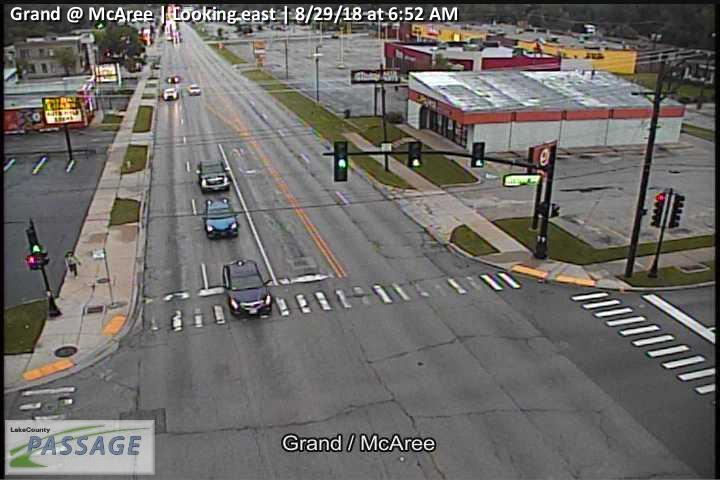SUV: (222, 259, 273, 320), (202, 198, 239, 240), (196, 160, 231, 193), (163, 87, 177, 100)
Sedan: (186, 83, 201, 96), (166, 74, 180, 83)
